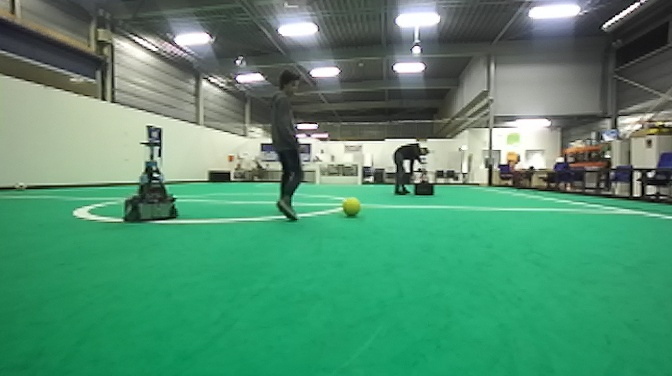ball: (338, 194, 362, 218), (10, 179, 28, 193)
goal: (315, 161, 364, 187)
goalpost: (356, 160, 364, 187), (315, 161, 321, 186)
human: (265, 65, 305, 224), (391, 139, 432, 198)
robot: (118, 135, 182, 227), (412, 162, 437, 197)
